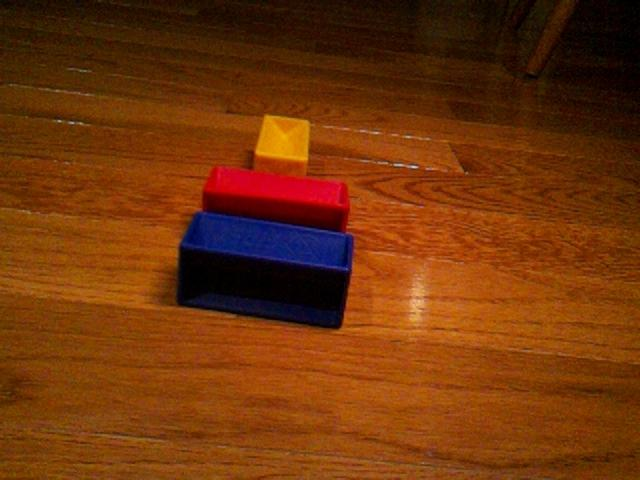blue: (175, 209, 355, 330)
red: (201, 164, 351, 233)
yellow: (252, 113, 311, 178)
